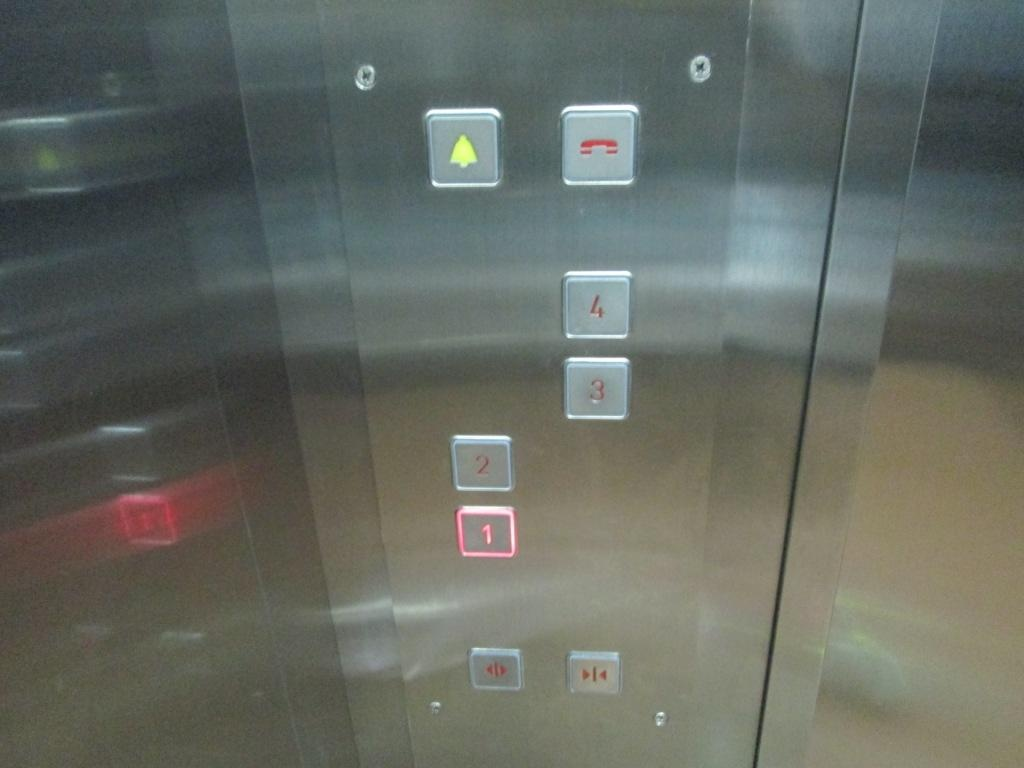1: (452, 502, 520, 561)
2: (448, 430, 515, 497)
3: (563, 353, 632, 425)
4: (562, 267, 634, 343)
alarm: (422, 101, 503, 195)
call: (554, 99, 642, 194)
close: (565, 648, 625, 697)
open: (466, 643, 524, 692)
unknown: (1, 112, 89, 194), (111, 491, 180, 551), (96, 426, 160, 489)
